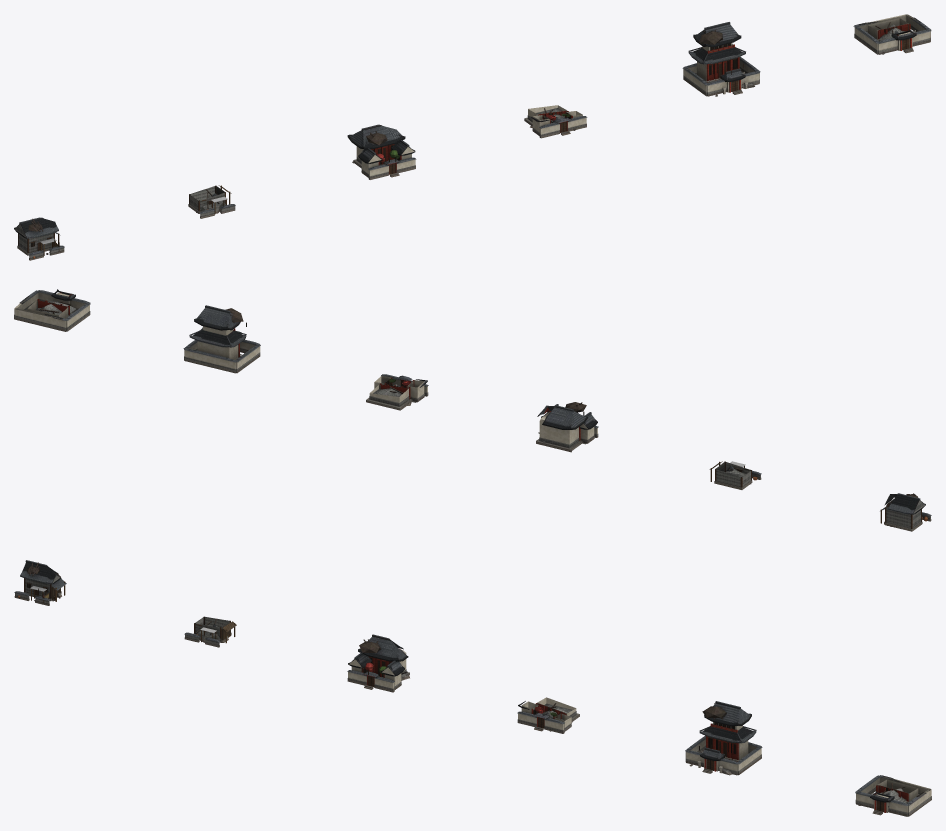
The model's file is kingdoms-sinic-houses-damage.glb.
3 views of the same model, one above another, from view 1: azimuth 30°, elevation 25°; view 2: azimuth 150°, elevation 25°; view 3: azimuth 330°, elevation 25° (orthographic).
Parts seen in each view (by area): view 1: LOD0.004, LOD0.002, LOD0.005, LOD0, LOD0.003, LOD0.001; view 2: LOD0.004, LOD0.002, LOD0.005, LOD0.003, LOD0, LOD0.001; view 3: LOD0.004, LOD0.002, LOD0.005, LOD0.003, LOD0, LOD0.001.
Boxes of the visible parts, x1,y1,x2,y2 form: LOD0.004: [682, 22, 760, 96]; LOD0.002: [347, 124, 416, 179]; LOD0.005: [853, 14, 931, 54]; LOD0: [14, 217, 64, 260]; LOD0.003: [524, 105, 587, 138]; LOD0.001: [188, 185, 235, 218]; LOD0.004: [183, 305, 260, 373]; LOD0.002: [536, 402, 598, 452]; LOD0.005: [14, 289, 90, 331]; LOD0.003: [366, 374, 428, 410]; LOD0: [880, 493, 931, 531]; LOD0.001: [709, 461, 761, 489]; LOD0.004: [685, 701, 762, 775]; LOD0.002: [347, 634, 409, 692]; LOD0.005: [855, 775, 931, 816]; LOD0.003: [517, 697, 579, 733]; LOD0: [14, 560, 66, 605]; LOD0.001: [184, 616, 236, 647].
Size of what is drawn, in the model's own units: 15.81 by 0.8954 by 0.9095.
3 materials, 3 textured.
